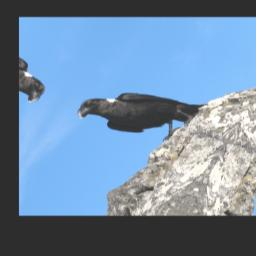Crow: (70, 70, 209, 151)
